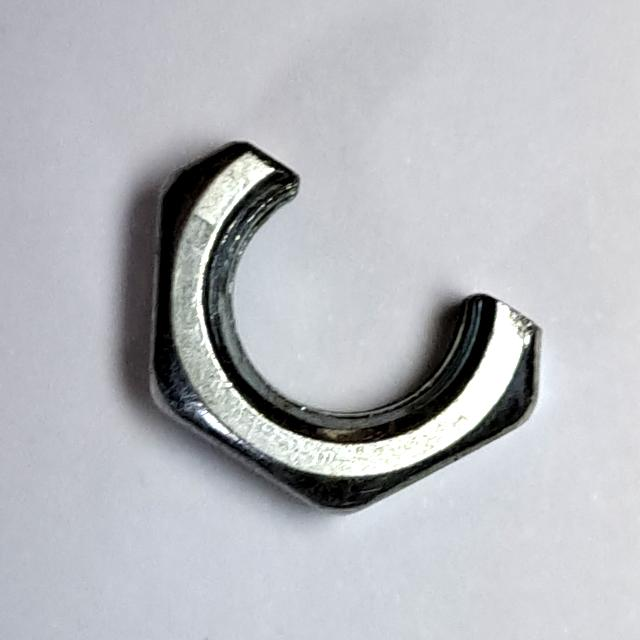Fracture: (135, 109, 560, 533)
